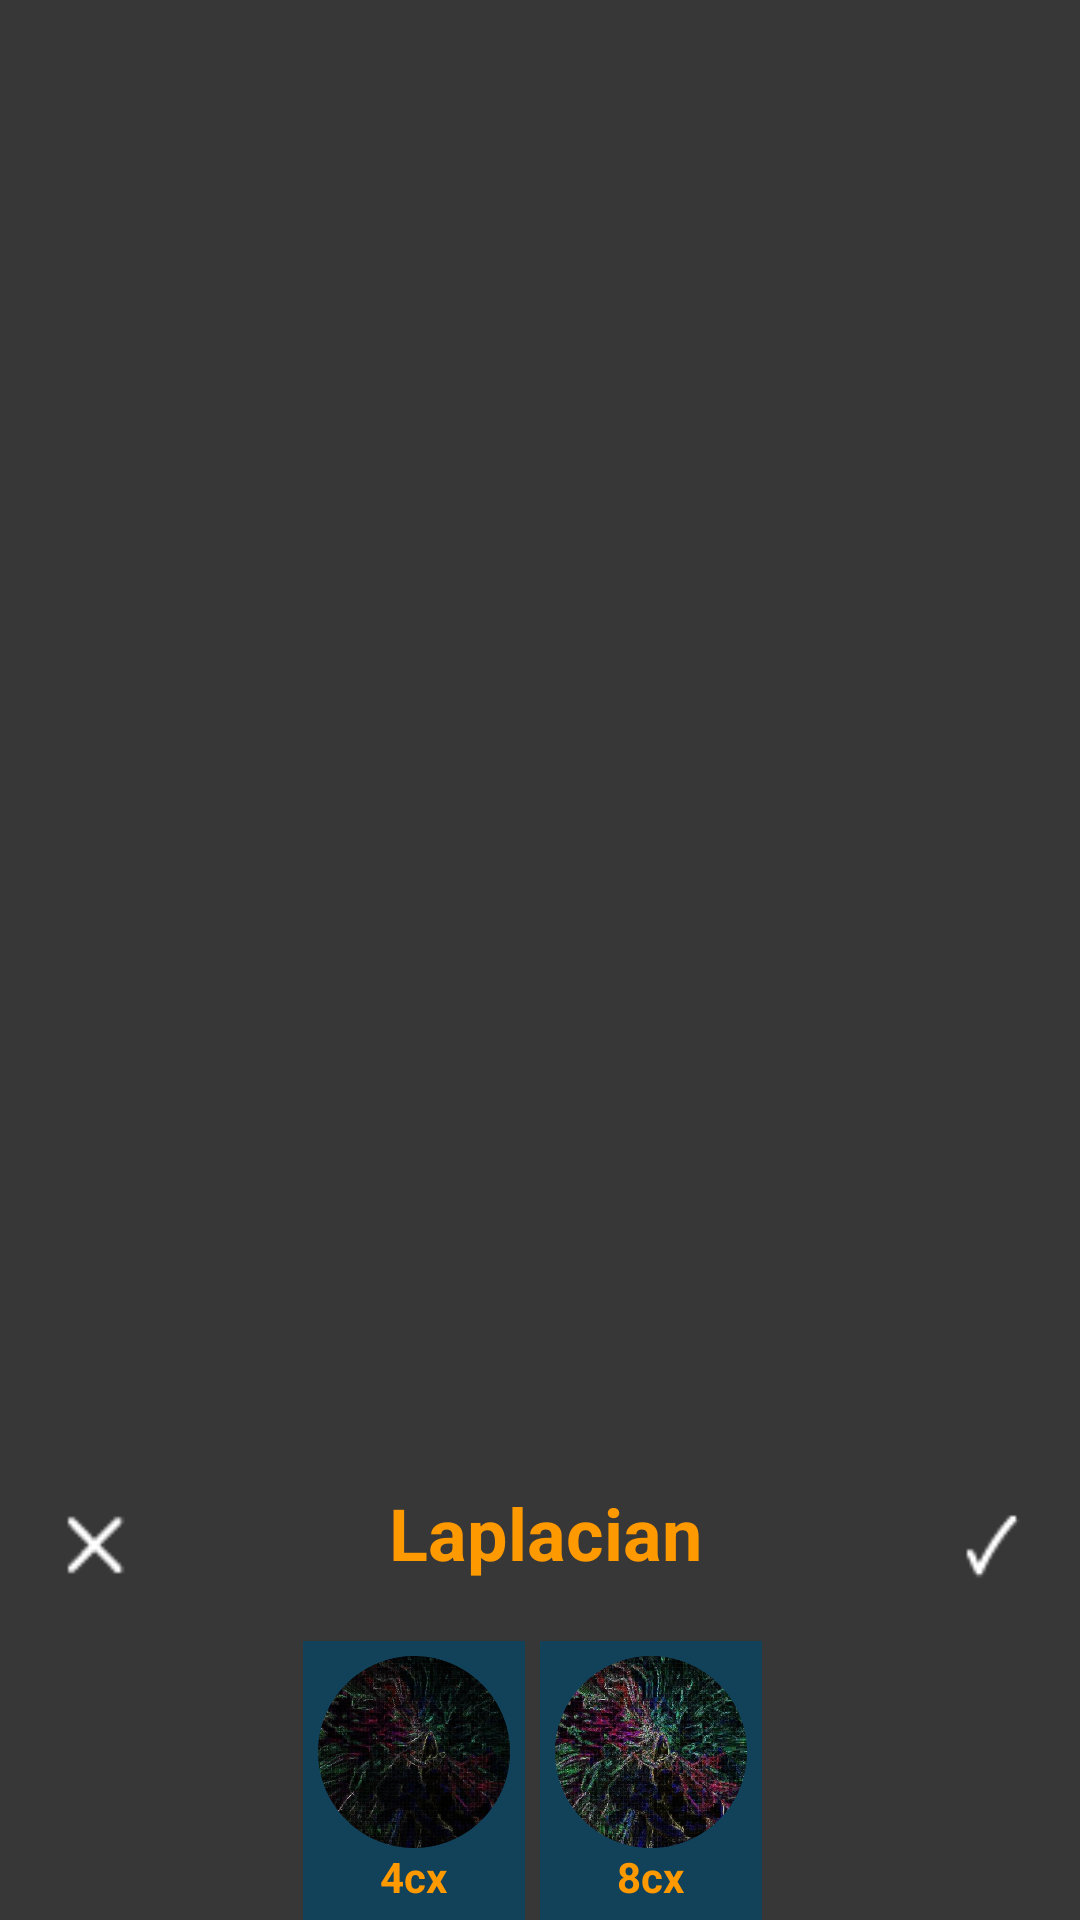

Icons on this 1080x1920 Android screen, each with the point to tap as (x,y):
annuler: (95,1545)
valider: (991,1546)
